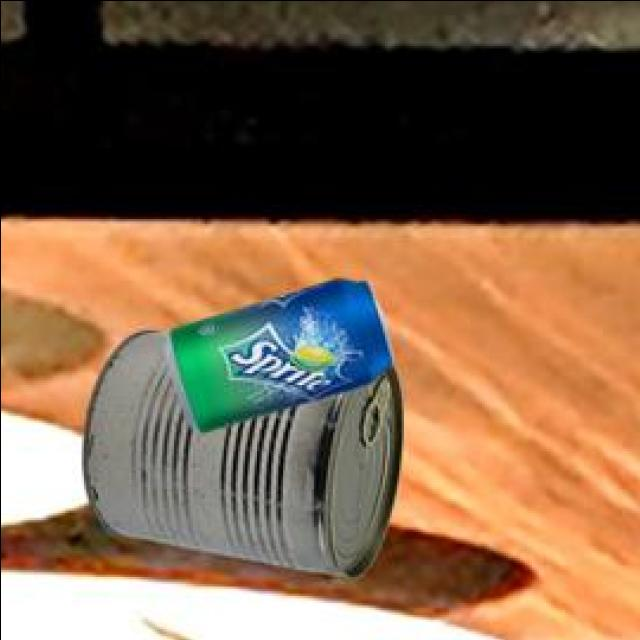logam: (87, 333, 404, 580), (167, 281, 395, 435)
